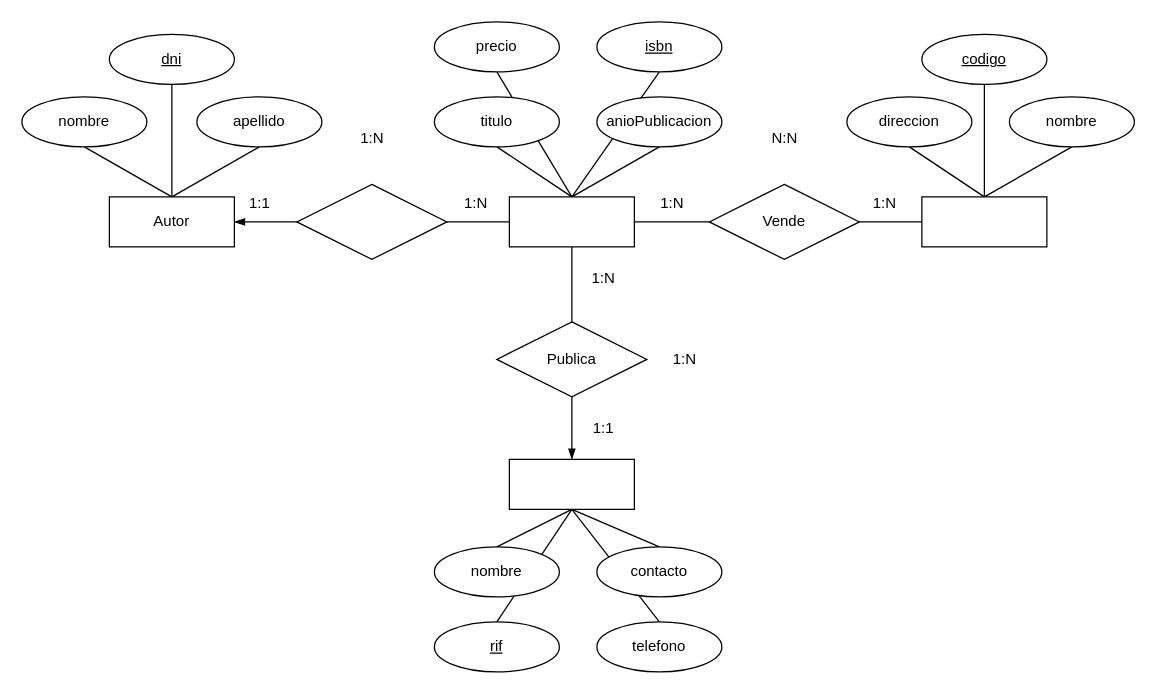
The diagram is 1156 pixels wide and 694 high, and some of its shapes have lost their labels. The box of each missing label's shape, as (x1, y1, x2, y2) in pixels:
Editorial: (508, 458, 634, 509)
Escribe: (296, 183, 447, 259)
Librería: (921, 196, 1047, 247)
Libro: (508, 196, 634, 247)
